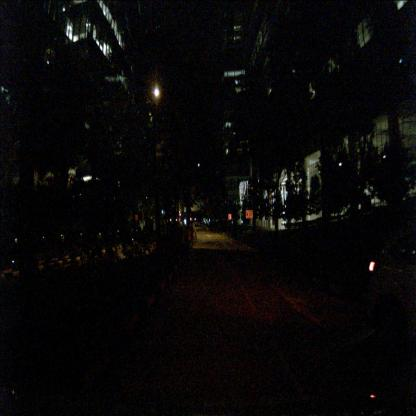human-pedestrian-adult: (194, 228, 198, 243)
vehicle-car: (366, 220, 416, 351)
